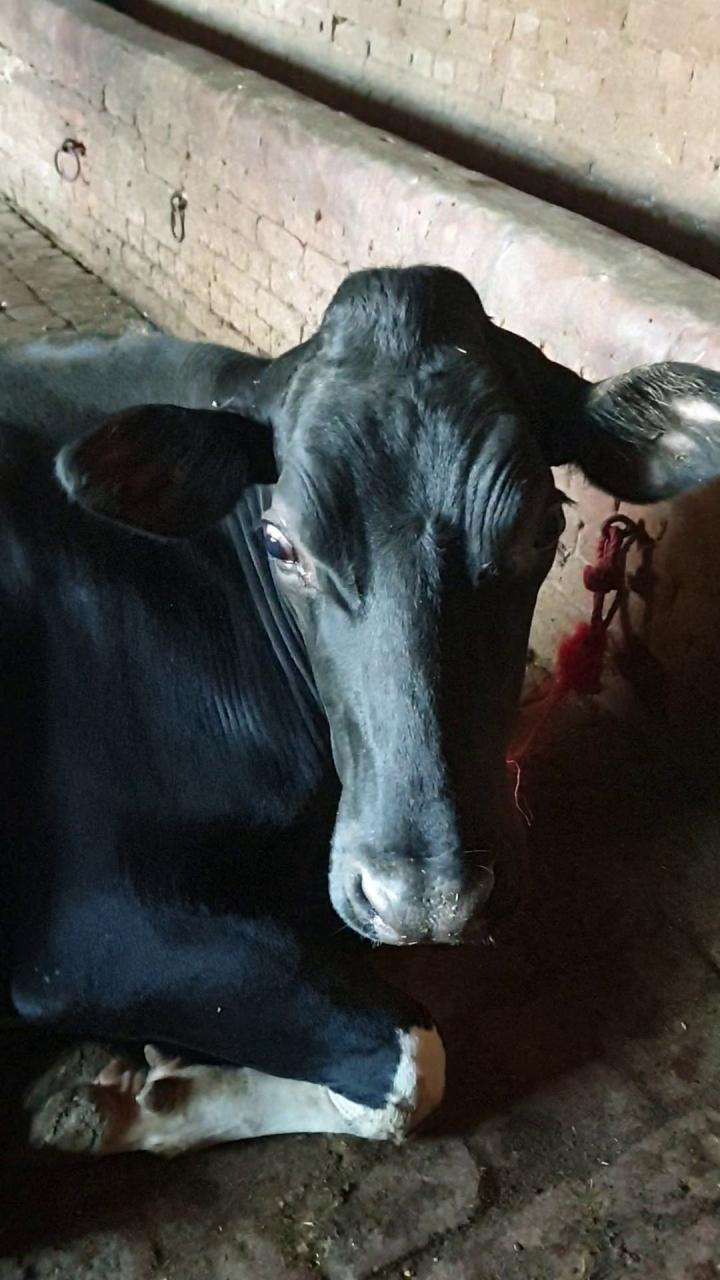cows: (241, 254, 626, 1008)
